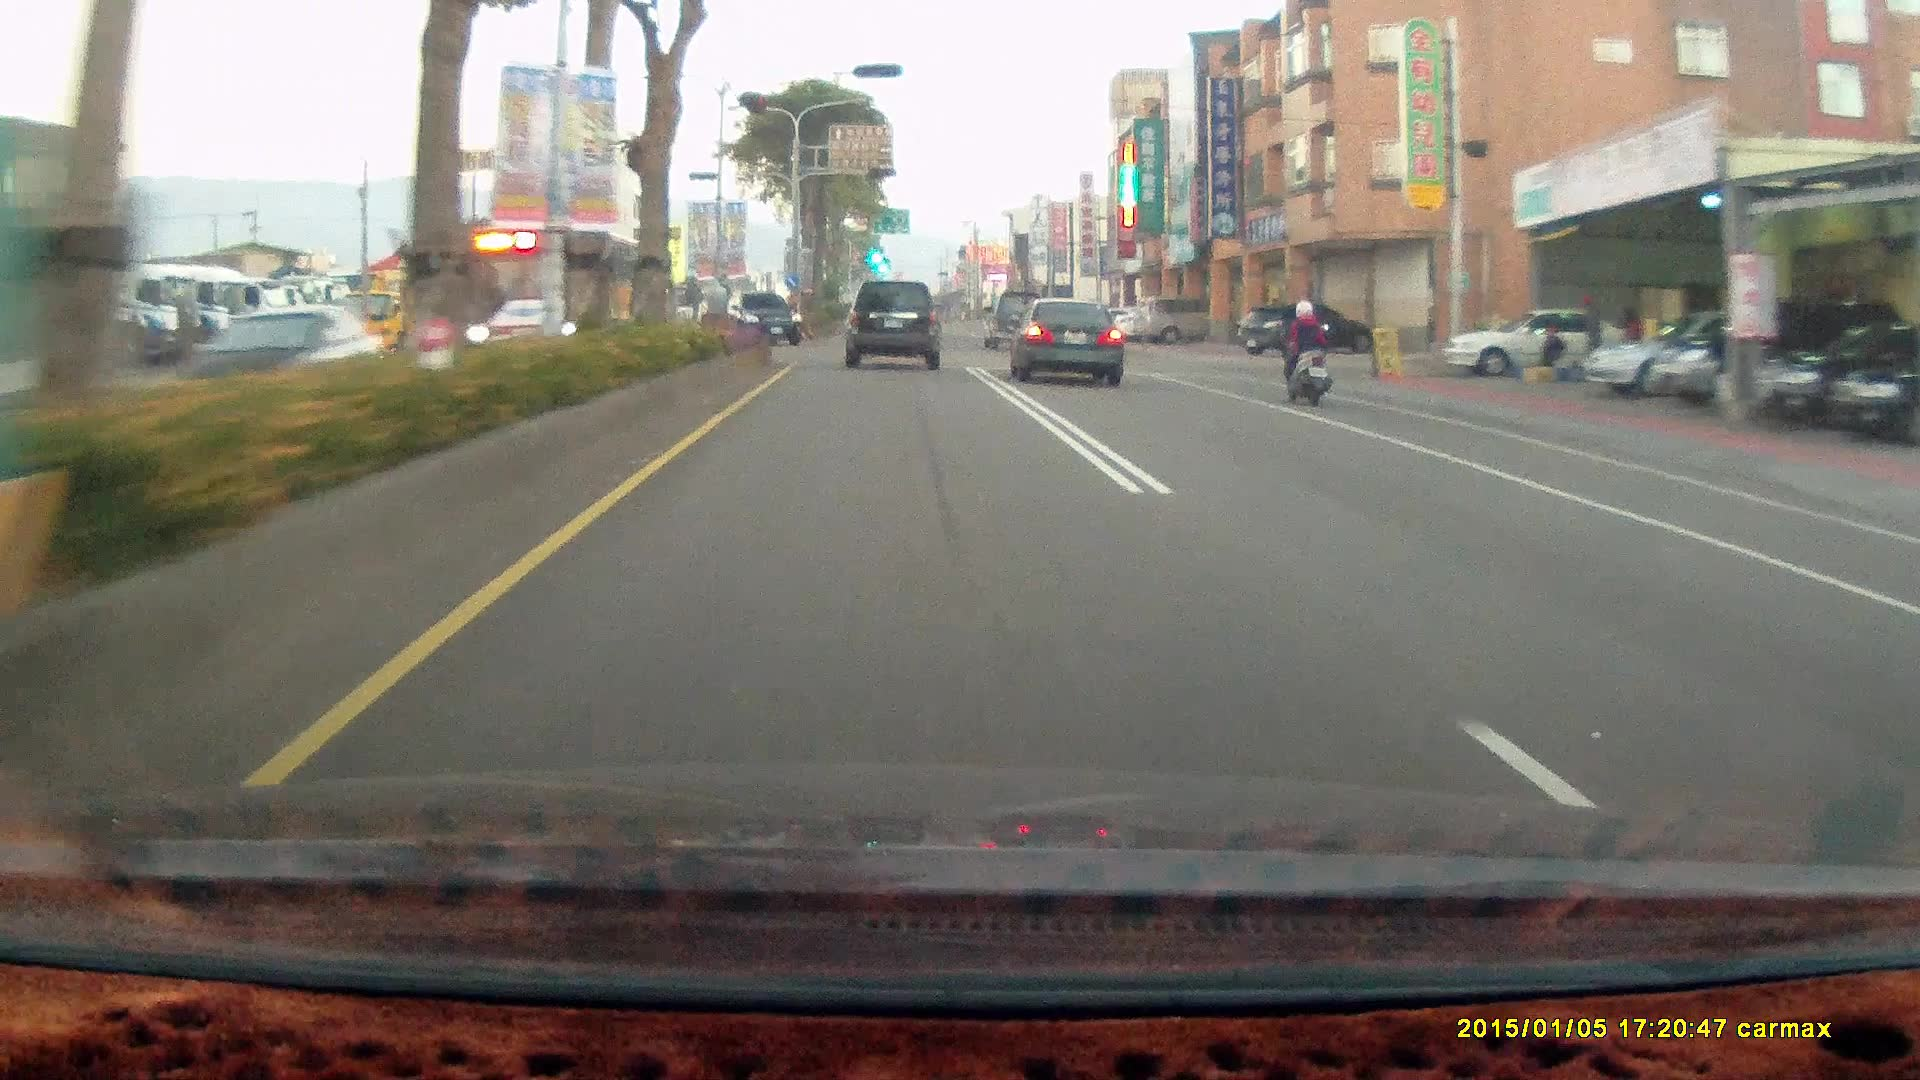pedestrian: (1579, 291, 1604, 373), (1537, 321, 1565, 378), (1618, 305, 1642, 363)
rider: (1267, 285, 1346, 418), (1274, 295, 1332, 402)
vehicle: (429, 220, 679, 364), (464, 225, 672, 360), (174, 301, 388, 420), (1583, 307, 1822, 398), (1652, 302, 1854, 410), (1652, 302, 1853, 409), (1586, 305, 1807, 397), (1763, 318, 1920, 426), (1771, 315, 1912, 427), (1431, 306, 1635, 382), (1441, 305, 1631, 376), (1827, 319, 1919, 446), (1828, 319, 1920, 446), (1014, 298, 1133, 394), (1003, 293, 1123, 382), (842, 281, 946, 372), (842, 280, 943, 370), (1236, 304, 1378, 357), (1234, 304, 1372, 358), (719, 290, 803, 350), (718, 289, 802, 345), (1132, 295, 1226, 346), (1124, 296, 1213, 348), (981, 289, 1046, 347)
